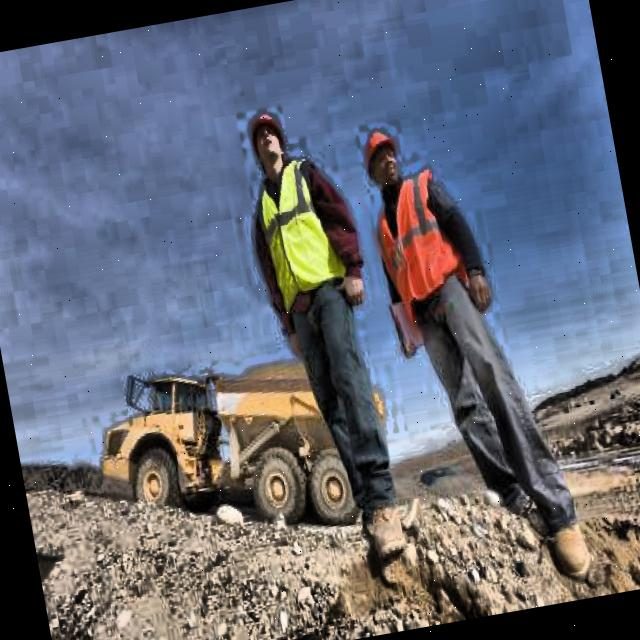helmet: (246, 104, 293, 180), (356, 122, 407, 192)
